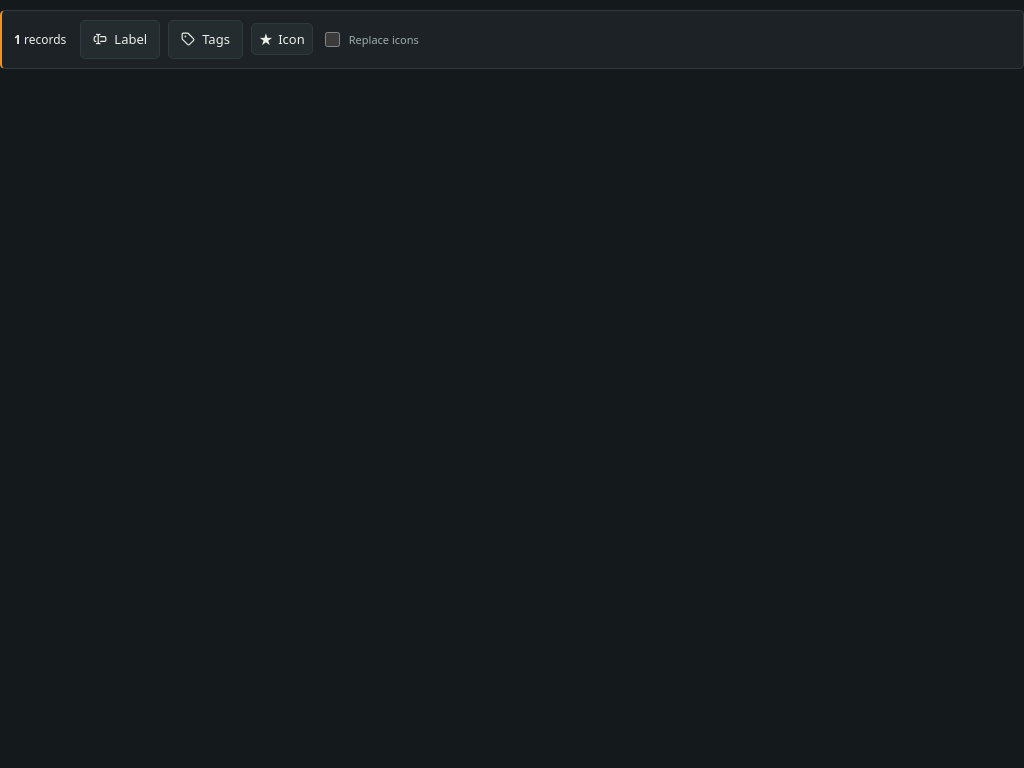
Test: allows only one editor through click activation without capture events
The width and height of the screenshot is (1024, 768).
What coordinates should you click on to do the following:
click the button "Label"
I would click on:
 (120, 39)
Its box is x1=80 y1=20 x2=160 y2=59.
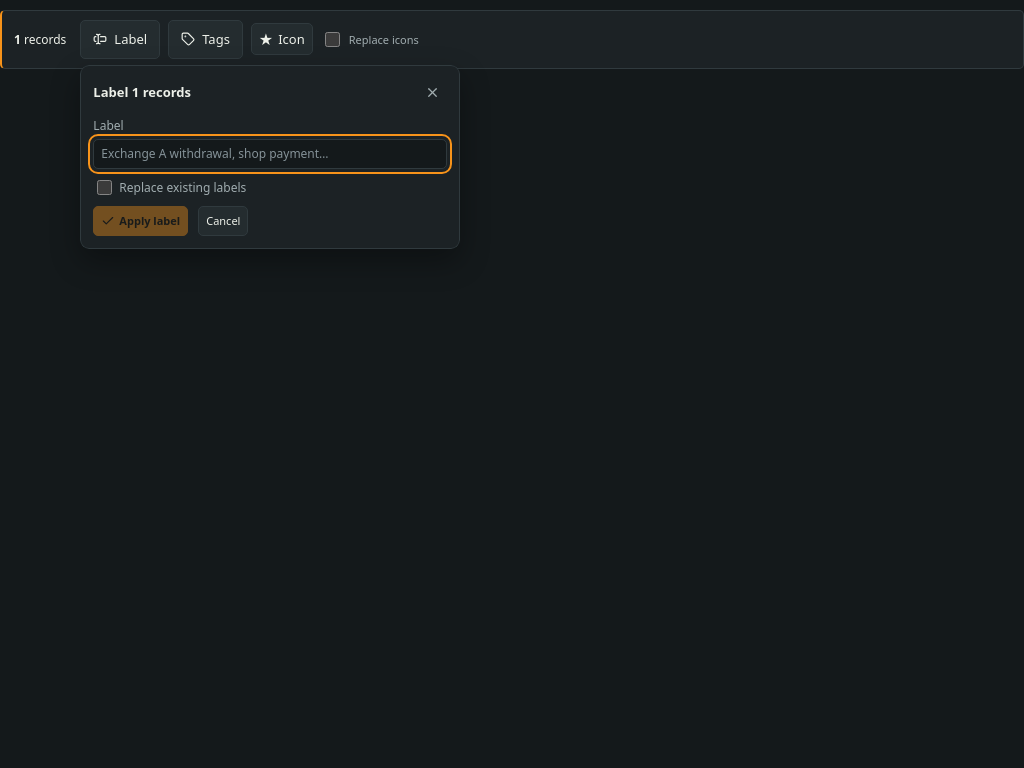
Check: the number of dialogs is 1, box x1=80 y1=65 x2=460 y2=249
What coordinates should you click on to do the following:
click the button with aria-label "Set icon: Star"
I would click on:
 (282, 39)
Its box is x1=251 y1=23 x2=313 y2=55.
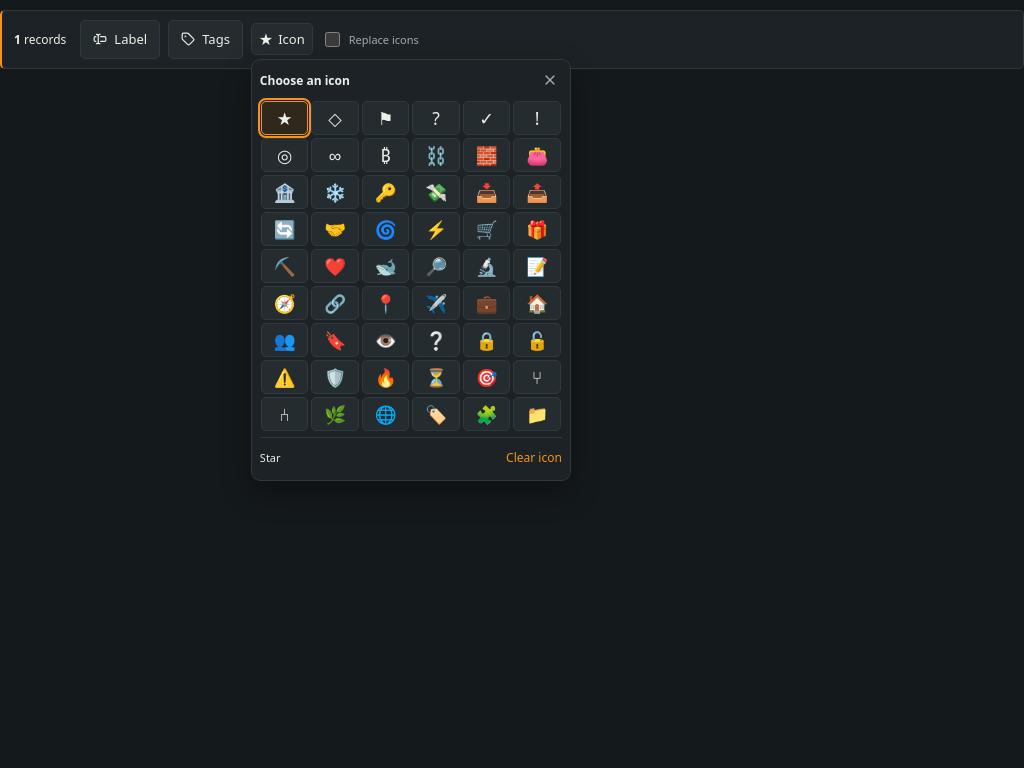
Check: the number of dialogs is 1, box x1=251 y1=59 x2=571 y2=481
What coordinates should you click on to do the following:
click the button "Tags"
I would click on:
 (206, 39)
Its box is x1=168 y1=20 x2=243 y2=59.
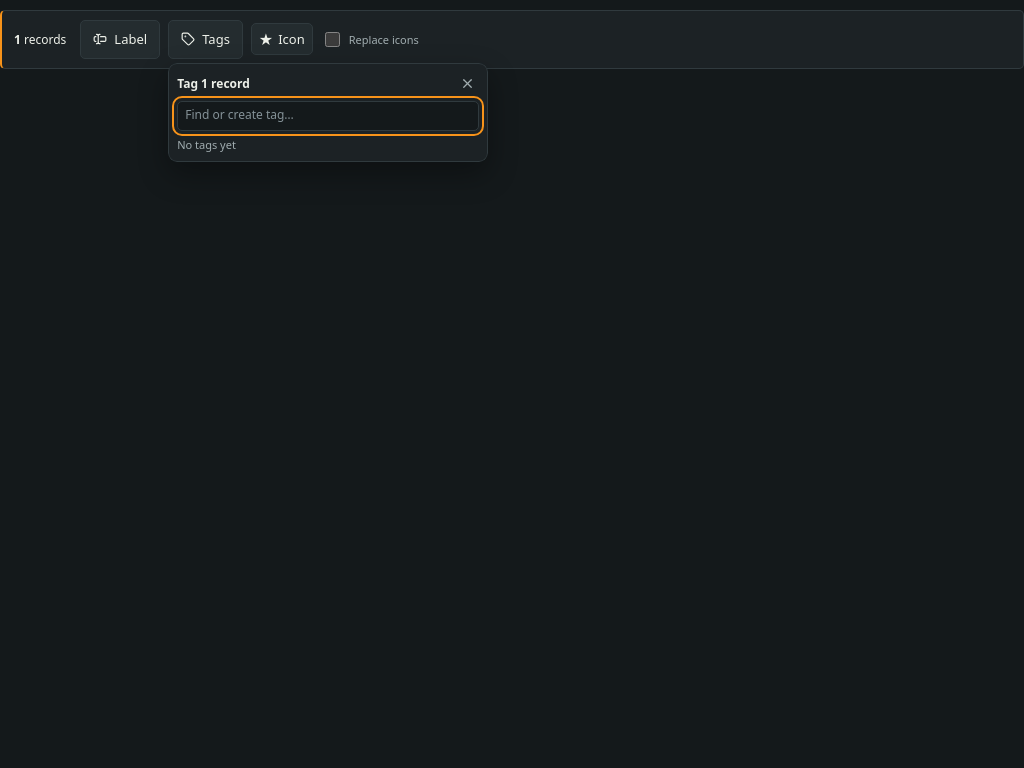
Check: the number of dialogs is 1, box x1=168 y1=63 x2=488 y2=162
What coordinates should you click on to do the following:
click the button with aria-label "Set icon: Star"
I would click on:
 (282, 39)
Its box is x1=251 y1=23 x2=313 y2=55.
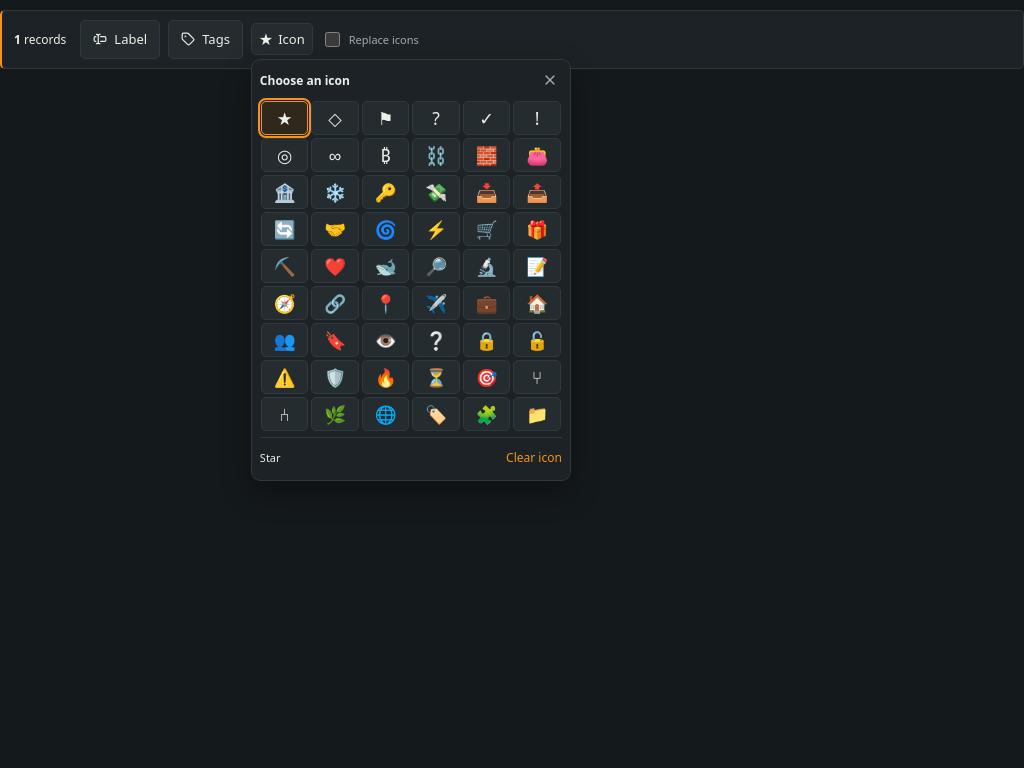
Check: the number of dialogs is 1, box x1=251 y1=59 x2=571 y2=481
